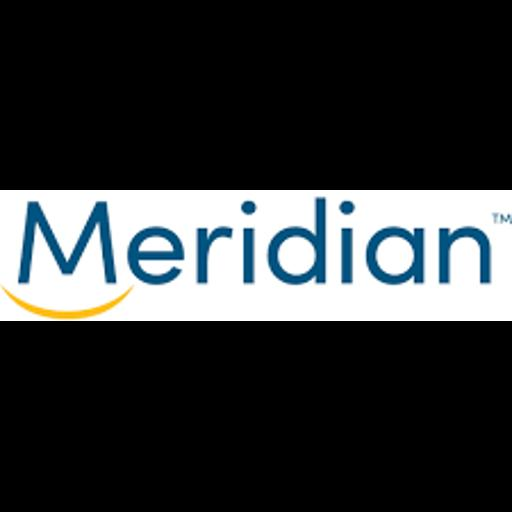Meridian Credit Union: (0, 190, 512, 321)
